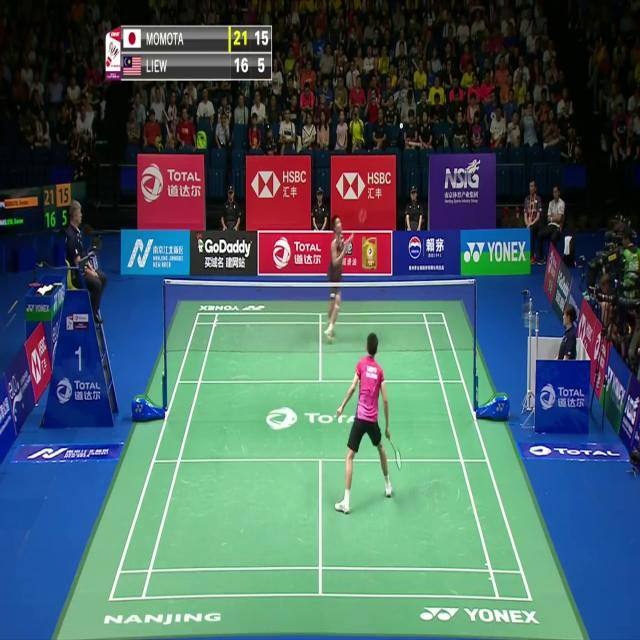Shuttlecock: (398, 120, 404, 131)
